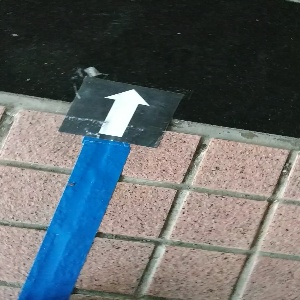straight: (60, 74, 183, 146)
